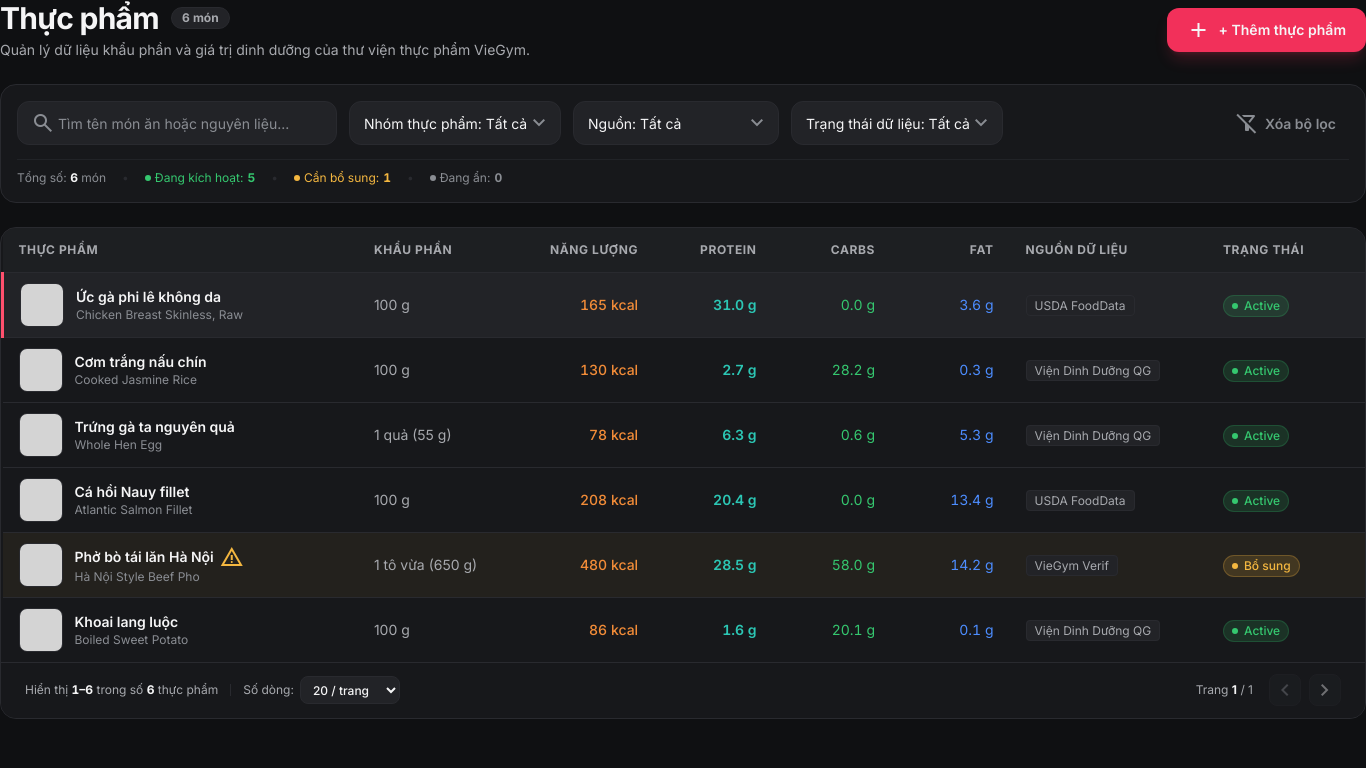
Test case: FoodListPage › opens create modal when clicking + Thêm thực phẩm
The width and height of the screenshot is (1366, 768).
Click the button "+ Thêm thực phẩm".
click(1266, 30)  # box [1167, 8, 1365, 52]
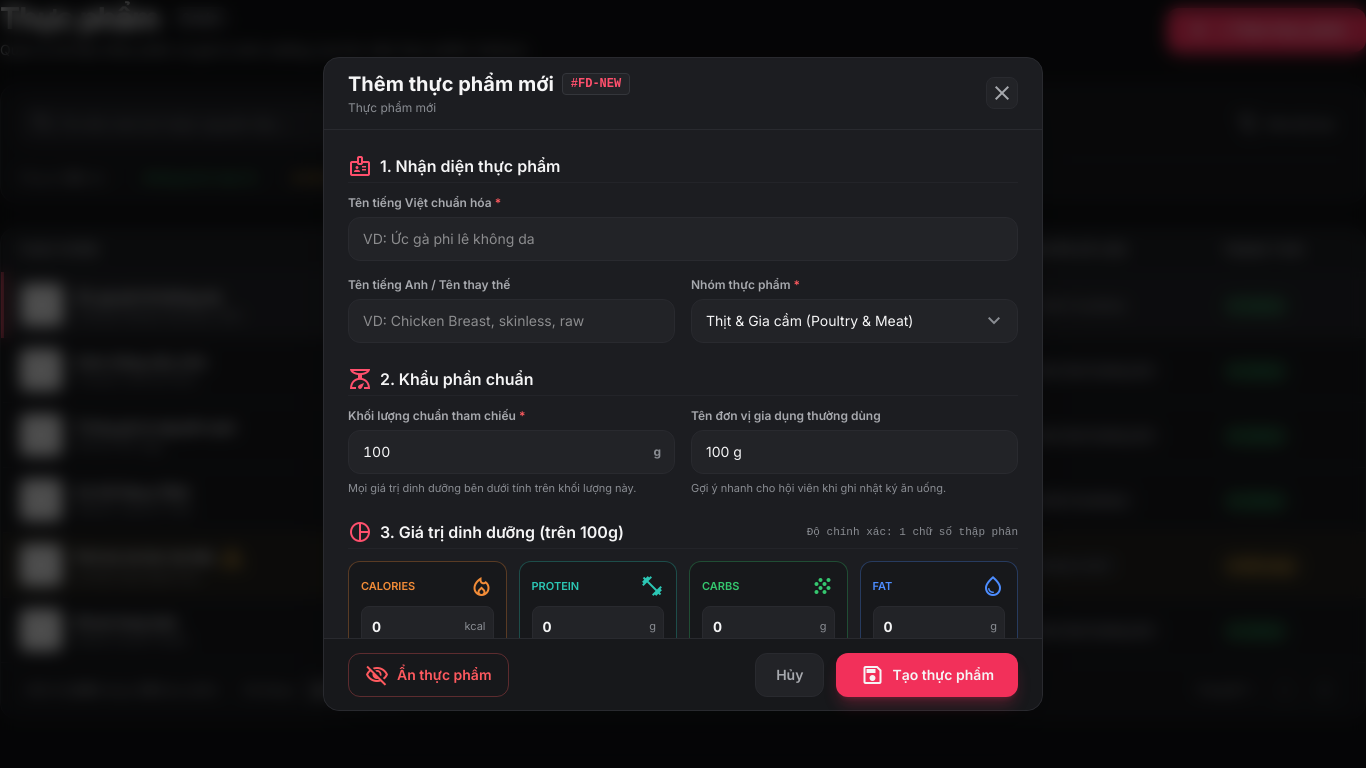
Now the heading "Thêm thực phẩm mới" is shown, box [348, 70, 554, 98]
Now the heading "1. Nhận diện thực phẩm" is shown, box [380, 154, 560, 178]
Now the heading "2. Khẩu phần chuẩn" is shown, box [380, 367, 534, 391]
